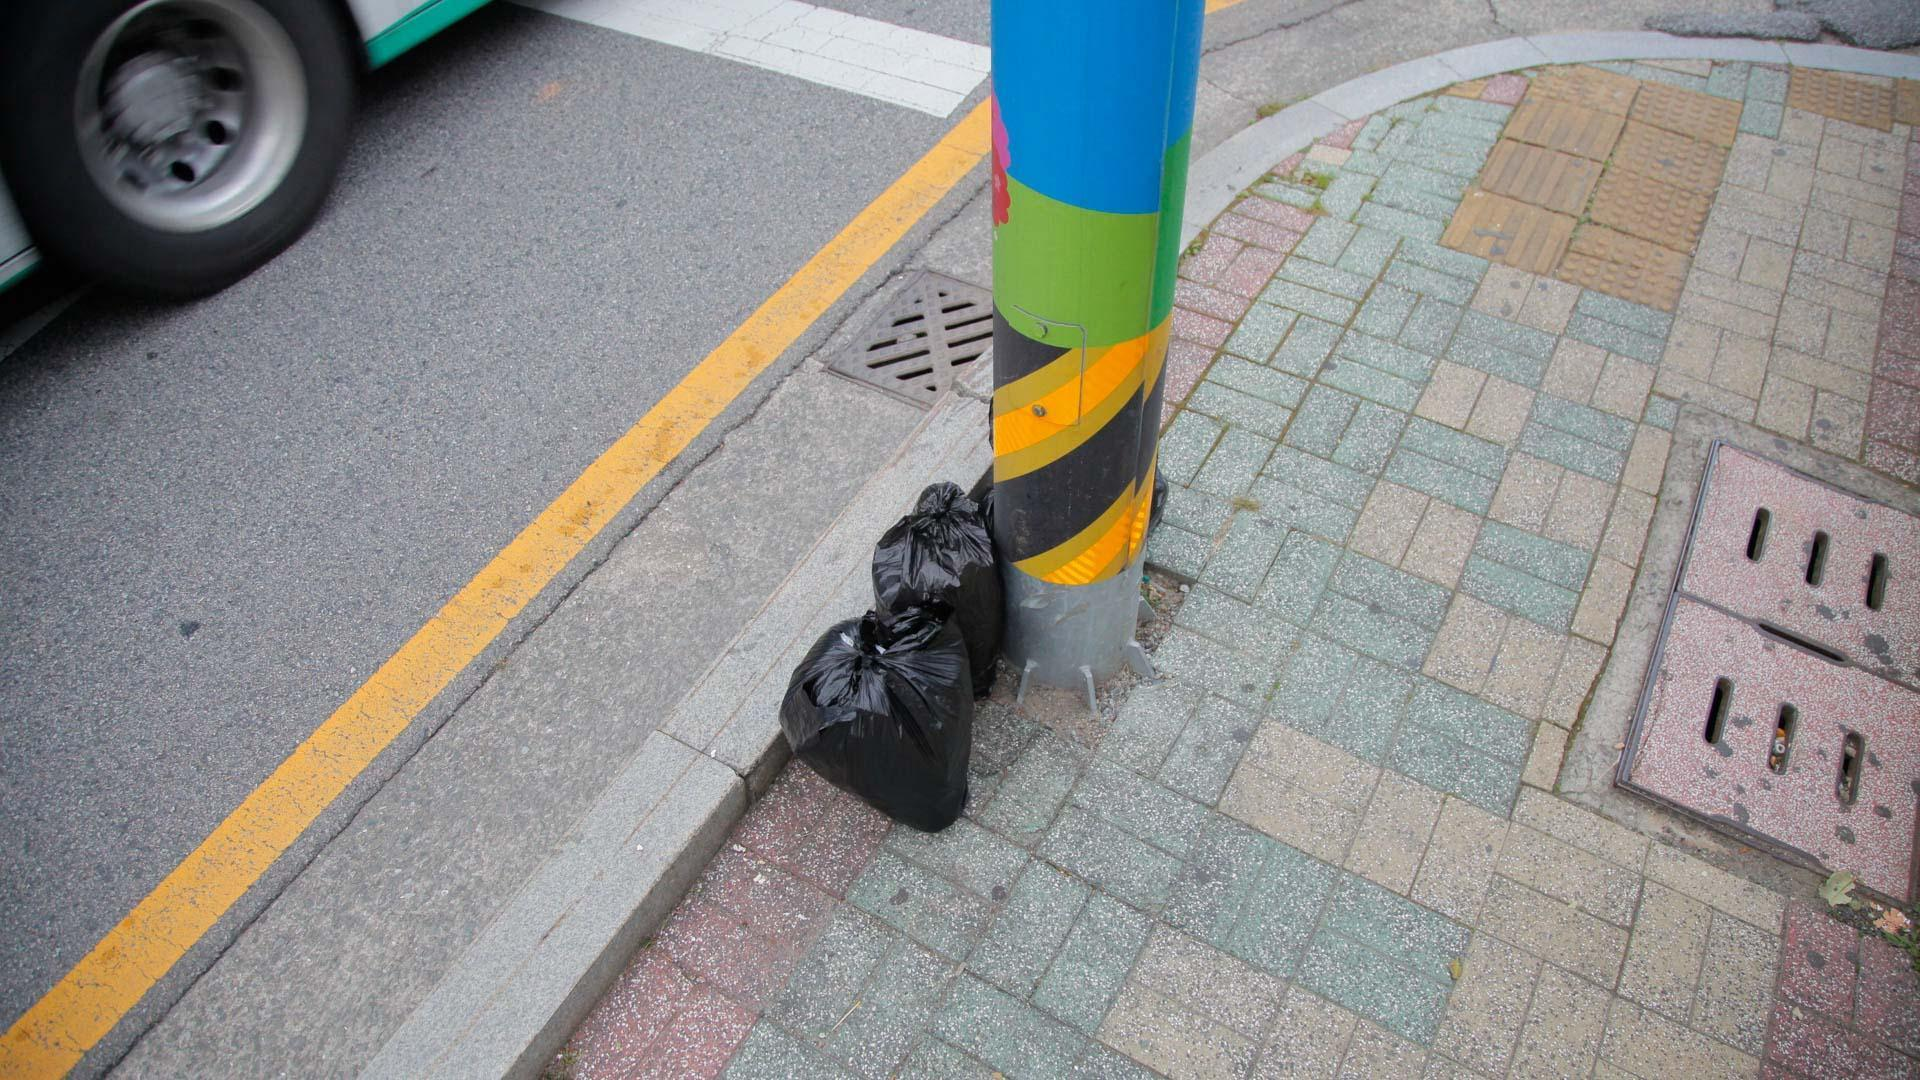black_bag: (766, 599, 976, 837), (866, 476, 1010, 702)
